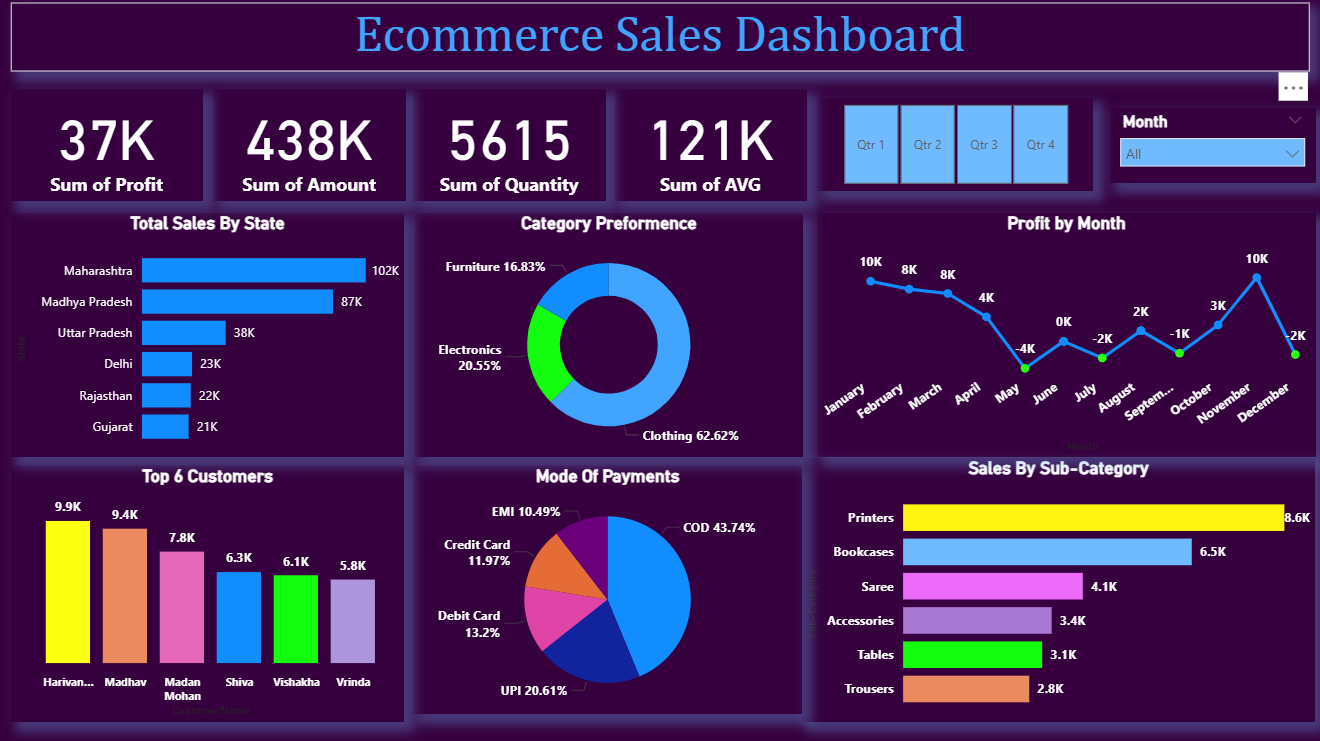

What the dashboard file says about the page in this screenshot:
{"tool":"powerbi","page":{"name":"Page 1","canvas":[1280,720],"ordinal":0},"visuals":[{"type":"textbox","box":[13.6,7.3,1252.7,66.4],"z":0},{"type":"card","fields":{"Values":["Sum(Details.Profit)"]},"box":[13.6,90,185.5,108.2],"z":1000},{"type":"card","fields":{"Values":["Sum(Details.Amount)"]},"box":[208.2,90,185.5,108.2],"z":2000},{"type":"card","fields":{"Values":["Sum(Details.Quantity)"]},"box":[401.8,90,185.5,108.2],"z":3000},{"type":"card","fields":{"Values":["Sum(Details.AVG)"]},"box":[596.4,90,185.5,108.2],"z":4000},{"type":"clusteredBarChart","title":"Total Sales By State","fields":{"Y":["Sum(Details.Amount)"],"Category":["Orders.State"]},"box":[13.6,210,380,236.4],"z":5000},{"type":"donutChart","title":"Category Preformence","fields":{"Y":["Sum(Details.Quantity)"],"Category":["Details.Category"]},"box":[402.7,210,375.5,236.4],"z":6000},{"type":"clusteredBarChart","title":"Sales By Sub-Category","fields":{"Category":["Details.Sub-Category"],"Y":["Sum(Details.Profit)"]},"box":[777.3,446.4,495.5,255.5],"z":7000},{"type":"columnChart","title":"Top 6 Customers","fields":{"Y":["Sum(Details.Amount)"],"Category":["Orders.CustomerName"]},"box":[13.6,453.6,380,248.2],"z":8000},{"type":"pieChart","title":"Mode Of Payments","fields":{"Y":["Sum(Details.Quantity)"],"Category":["Details.PaymentMode"]},"box":[401.8,453.6,375.5,240.9],"z":9000},{"type":"lineChart","title":"Profit by Month","fields":{"Category":["Orders.Order Date.Variation.Date Hierarchy.Month"],"Y":["Sum(Details.Profit)"]},"box":[790.9,210,481.8,236.4],"z":10000},{"type":"slicer","fields":{"Values":["Orders.Order Date.Variation.Date Hierarchy.Quarter"]},"box":[790.9,99.1,266.4,90],"z":11000},{"type":"slicer","fields":{"Values":["Orders.Order Date.Variation.Date Hierarchy.Month"]},"box":[1073.6,108.2,199.1,72.7],"z":12000}]}

Visuals, with their boxes in screenshot pixels (x1, y1, x2, y2), scaled from the page's 1280x720 canvas onto the 1320x741 screenshot:
textbox: left=14, top=8, right=1306, bottom=76
card - Sum(Details.Profit): left=14, top=93, right=205, bottom=204
card - Sum(Details.Amount): left=215, top=93, right=406, bottom=204
card - Sum(Details.Quantity): left=414, top=93, right=606, bottom=204
card - Sum(Details.AVG): left=615, top=93, right=806, bottom=204
"Total Sales By State" clusteredBarChart: left=14, top=216, right=406, bottom=459
"Category Preformence" donutChart: left=415, top=216, right=803, bottom=459
"Sales By Sub-Category" clusteredBarChart: left=802, top=459, right=1313, bottom=722
"Top 6 Customers" columnChart: left=14, top=467, right=406, bottom=722
"Mode Of Payments" pieChart: left=414, top=467, right=802, bottom=715
"Profit by Month" lineChart: left=816, top=216, right=1312, bottom=459
slicer - Orders.Order Date.Variation.Date Hierarchy.Quarter: left=816, top=102, right=1090, bottom=195
slicer - Orders.Order Date.Variation.Date Hierarchy.Month: left=1107, top=111, right=1312, bottom=186
